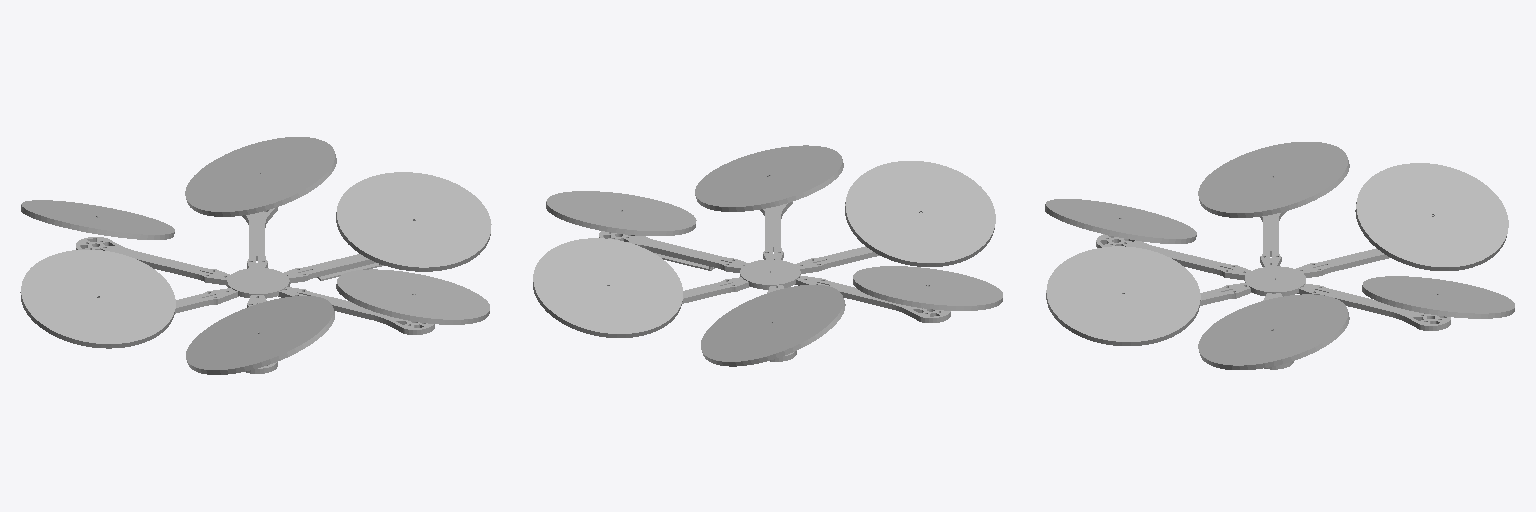
robot.urdf — cube.urdf:
<?xml version="0.0" ?>
<robot name="cube.urdf">
  <link concave="yes" name="baseLink">
    <inertial>
      <origin rpy="0 0 0" xyz="0 0 0"/>
       <mass value=".0"/>
       <inertia ixx="0" ixy="0" ixz="0" iyy="0" iyz="0" izz="0"/>
    </inertial>
    <visual>
      <origin rpy="0 0 0" xyz="0 0 0"/>
      <geometry>
				<mesh filename="fa_hexarotor.stl" scale="1.0 1.0 1.0"/>
      </geometry>
       <material name="gray">
        <color rgba="0.75 0.75 0.75 1"/>
      </material>
    </visual>
    <collision concave="yes">
      <origin rpy="0 0 0" xyz="0 0 0"/>
     <geometry>
				<mesh filename="fa_hexarotor.stl" scale="1.0 1.0 1.0"/>
      </geometry>
    </collision>
  </link>
</robot>

--- What the picture shows (computed from the rendered views, not written in the file) ---
The picture shows the robot from 3 angles, left to right: view 1: azimuth 30°, elevation 25°; view 2: azimuth 150°, elevation 25°; view 3: azimuth 270°, elevation 25°; orthographic projection.
Model cube.urdf with 1 links and 0 joints (none), rooted at baseLink, posed every joint at zero.
Visible links, largest first — view 1: baseLink; view 2: baseLink; view 3: baseLink.
Boxes of the visible links, bbox=[...] form: baseLink: bbox=[20, 137, 491, 374]; baseLink: bbox=[533, 145, 1002, 366]; baseLink: bbox=[1045, 142, 1514, 369].
Bounding box of the posed robot: 0.4831 × 0.4414 × 0.0609 m (x, y, z).
Meshes: 1 distinct files referenced, 1 mesh visuals loaded (1 binary STL).